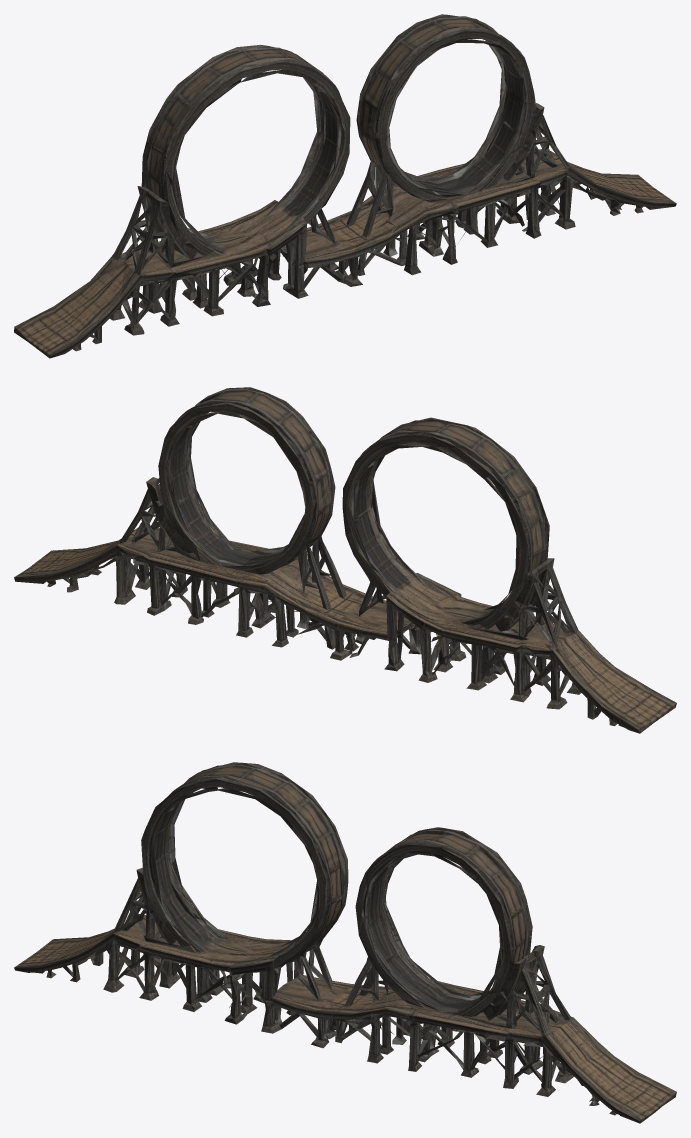
File: stunt-double-loop-ramps.glb
The picture shows the model from 3 angles, top to bottom: view 1: azimuth 30°, elevation 25°; view 2: azimuth 150°, elevation 25°; view 3: azimuth 330°, elevation 25°; orthographic projection.
Size of the model in its own units: 1.89 by 0.6947 by 0.2296.
1 material, 1 textured.
